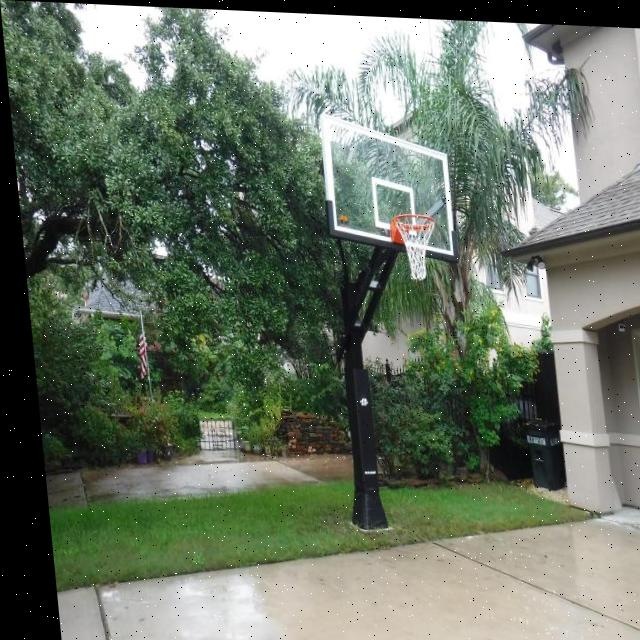hoop: (393, 214, 441, 281)
